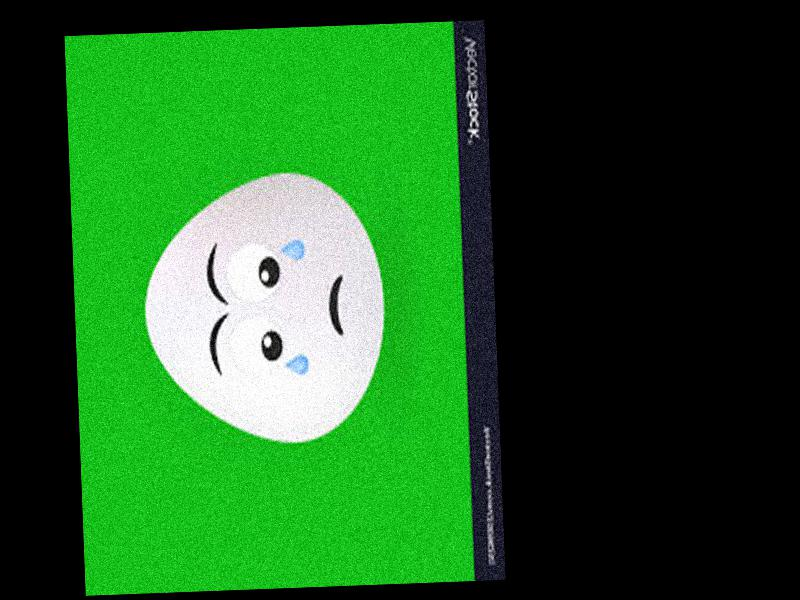Eggs: (142, 167, 388, 445)
